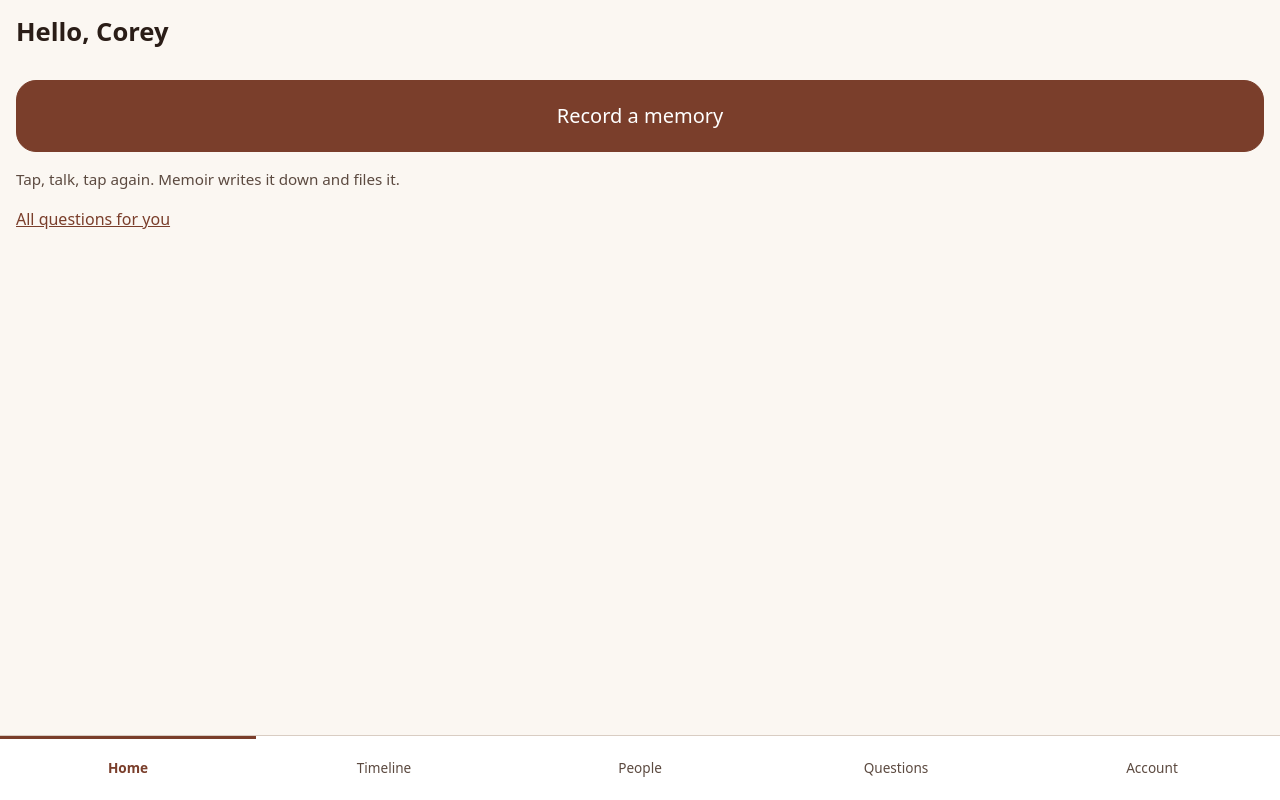
Test: one tap from home starts recording
The width and height of the screenshot is (1280, 800).
Click the link "Record a memory" at (640, 116), box left=16, top=80, right=1264, bottom=152
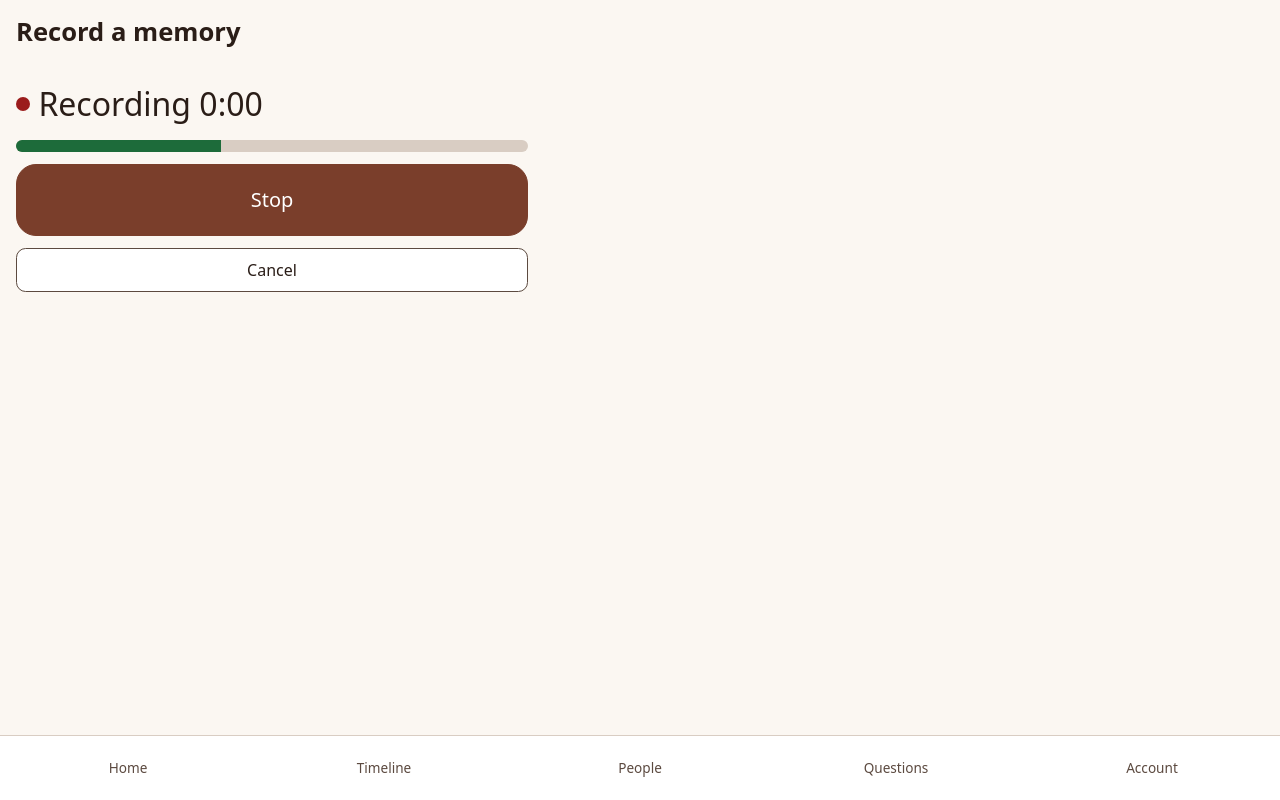
Expected: the button "Stop" is shown, left=16, top=164, right=528, bottom=236
